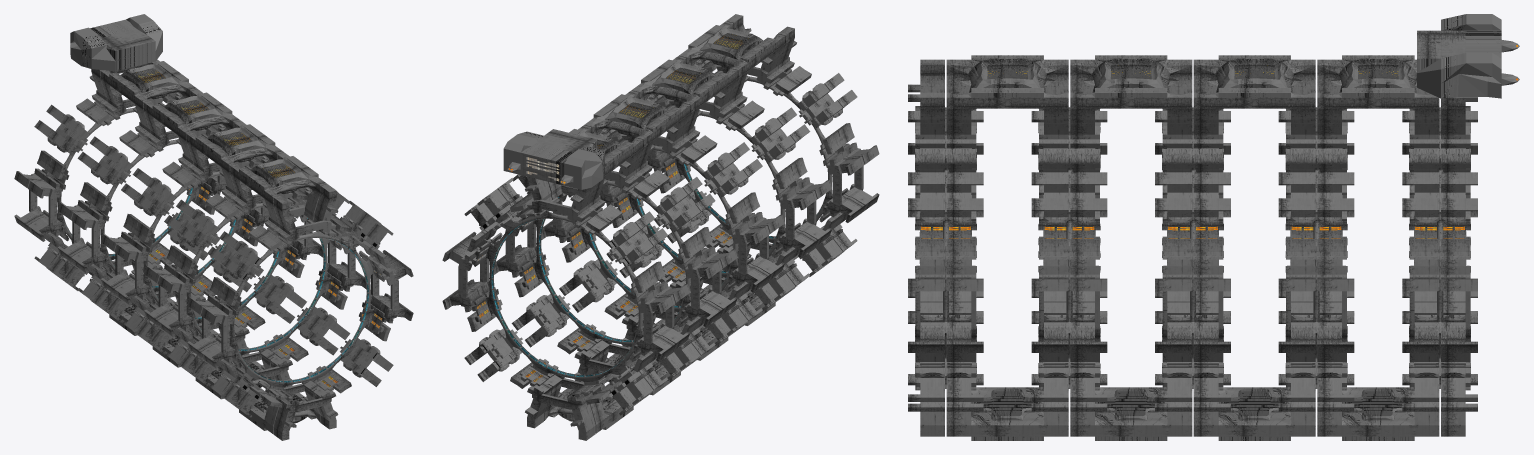
The model's file is hypergate.fbx.
The picture shows the model from 3 angles, left to right: view 1: azimuth 30°, elevation 25°; view 2: azimuth 150°, elevation 25°; view 3: azimuth 270°, elevation 25°; orthographic projection. The views are drawn at different scales.
Visible parts, largest first — view 1: MaterialFBXASC032FBXASC0352142150880.002, MaterialFBXASC032FBXASC0352142150880.003, MaterialFBXASC032FBXASC0352142150880.001, MaterialFBXASC032FBXASC0352142150880, LIGHTKRAFTFBXASC032GRAVITONFBXASC032, ORDNUNGSKRAFTFBXASC032Graviton; view 2: MaterialFBXASC032FBXASC0352142150880.002, MaterialFBXASC032FBXASC0352142150880.001, MaterialFBXASC032FBXASC0352142150880.003, MaterialFBXASC032FBXASC0352142150880, LIGHTKRAFTFBXASC032GRAVITONFBXASC032, ORDNUNGSKRAFTFBXASC032Graviton; view 3: MaterialFBXASC032FBXASC0352142150880.002, MaterialFBXASC032FBXASC0352142150880.001, MaterialFBXASC032FBXASC0352142150880.003, MaterialFBXASC032FBXASC0352142150880, SG-LightW, ORDNUNGSKRAFTFBXASC032Graviton.
Part boxes in pixels (x1,y1,x2,y2): MaterialFBXASC032FBXASC0352142150880.002: [14, 63, 374, 433]; MaterialFBXASC032FBXASC0352142150880.003: [101, 59, 413, 440]; MaterialFBXASC032FBXASC0352142150880.001: [57, 14, 382, 401]; MaterialFBXASC032FBXASC0352142150880: [47, 63, 381, 419]; LIGHTKRAFTFBXASC032GRAVITONFBXASC032: [109, 188, 368, 382]; ORDNUNGSKRAFTFBXASC032Graviton: [149, 187, 381, 386]; MaterialFBXASC032FBXASC0352142150880.002: [442, 36, 845, 440]; MaterialFBXASC032FBXASC0352142150880.001: [476, 71, 795, 433]; MaterialFBXASC032FBXASC0352142150880.003: [544, 14, 879, 429]; MaterialFBXASC032FBXASC0352142150880: [477, 24, 842, 417]; LIGHTKRAFTFBXASC032GRAVITONFBXASC032: [491, 164, 817, 376]; ORDNUNGSKRAFTFBXASC032Graviton: [477, 163, 731, 381]; MaterialFBXASC032FBXASC0352142150880.002: [943, 86, 1477, 436]; MaterialFBXASC032FBXASC0352142150880.001: [920, 14, 1519, 436]; MaterialFBXASC032FBXASC0352142150880.003: [908, 55, 1437, 440]; MaterialFBXASC032FBXASC0352142150880: [920, 65, 1465, 425]; SG-LightW: [930, 375, 1455, 410]; ORDNUNGSKRAFTFBXASC032Graviton: [921, 45, 1517, 238].
Bounding box in the file's own units: 13341 × 17365 × 24750.
Materials: 6 (1 with a texture image).
